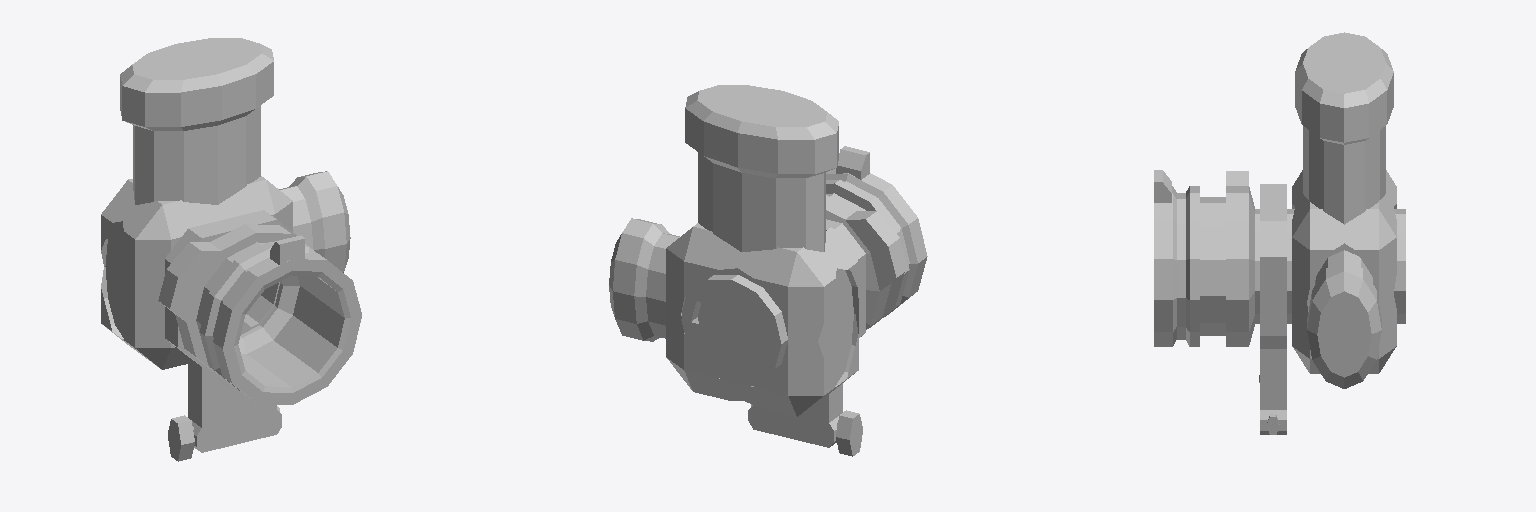
The model's file is ADS.obj.
The picture shows the model from 3 angles: view 1: azimuth 30°, elevation 25°; view 2: azimuth 150°, elevation 25°; view 3: azimuth 270°, elevation 25°; orthographic projection.
Visible parts, largest first — view 1: Cylinder.002; view 2: Cylinder.002; view 3: Cylinder.002.
Part boxes in pixels (x1,y1,x2,y2): Cylinder.002: (101,38,361,461); Cylinder.002: (609,85,927,456); Cylinder.002: (1154,32,1405,434).
Size of the model in its own units: 0.2049 by 0.3113 by 0.1981.